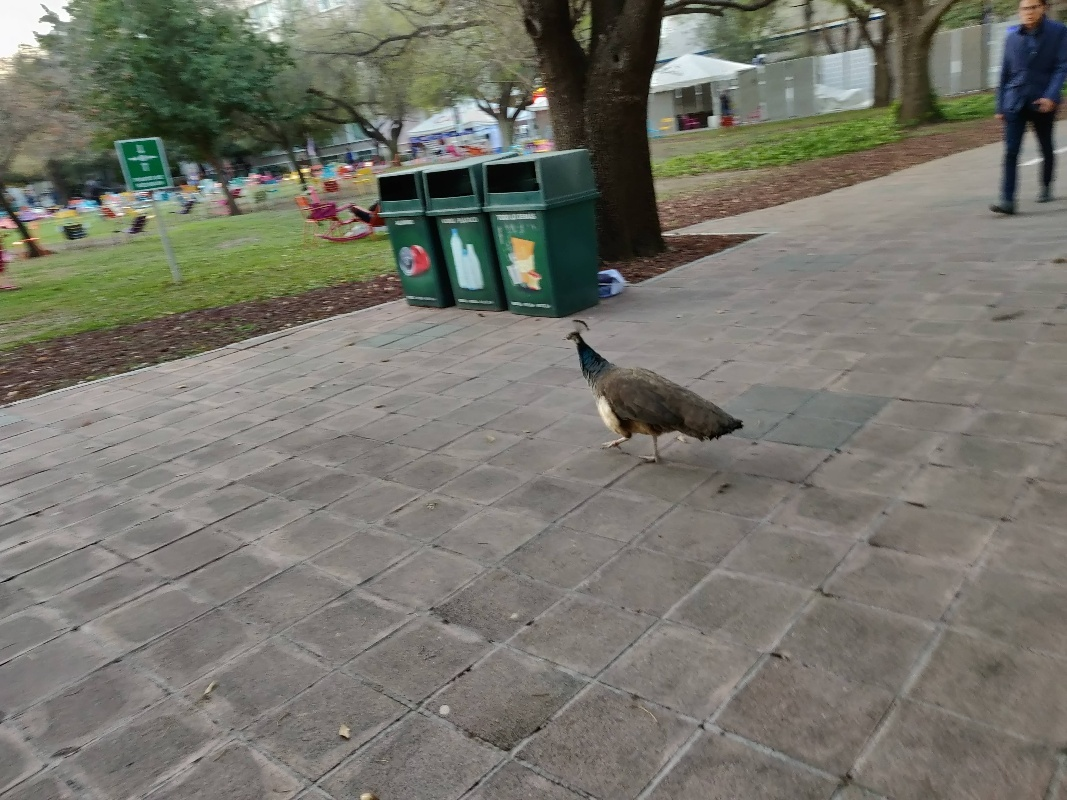pavoreal: (565, 318, 736, 449)
